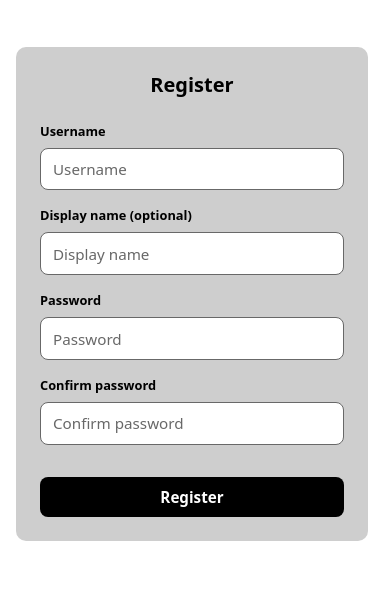
Scenario: RegisterPage › rejects bad username locally
Type "no spaces" into the field labelled "Username" at {"x": 192, "y": 169}, box [40, 148, 344, 190]
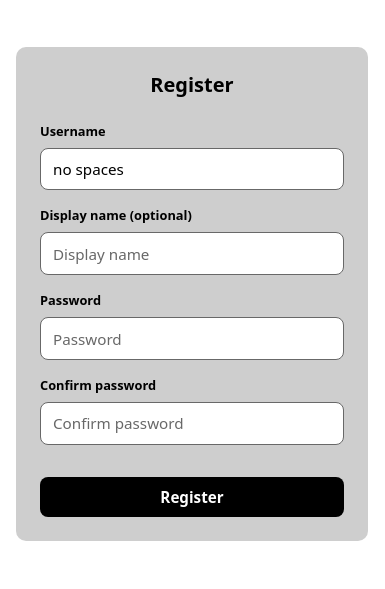
Type "password" into the password field labelled "Password" at {"x": 192, "y": 338}, box [40, 317, 344, 360]
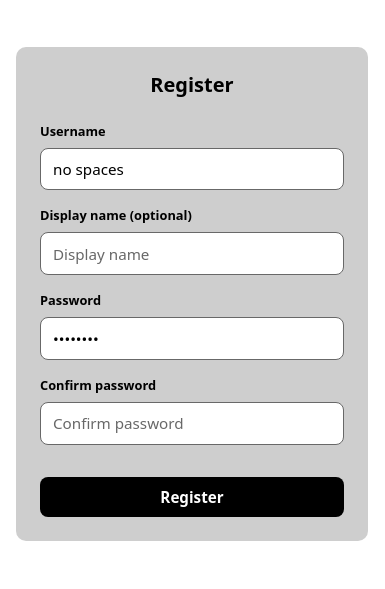
Type "password" into the password field labelled "Confirm password" at {"x": 192, "y": 423}, box [40, 402, 344, 445]
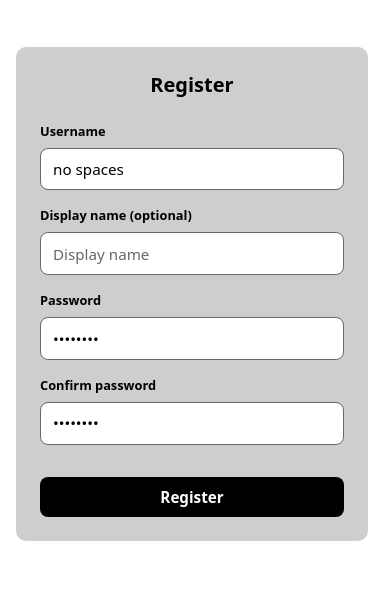
Submit the form with id "login-form"
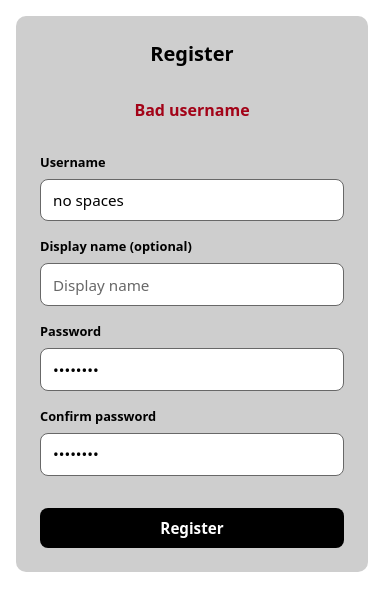
Result: the text "Bad username" is shown at [134, 98, 250, 120]
